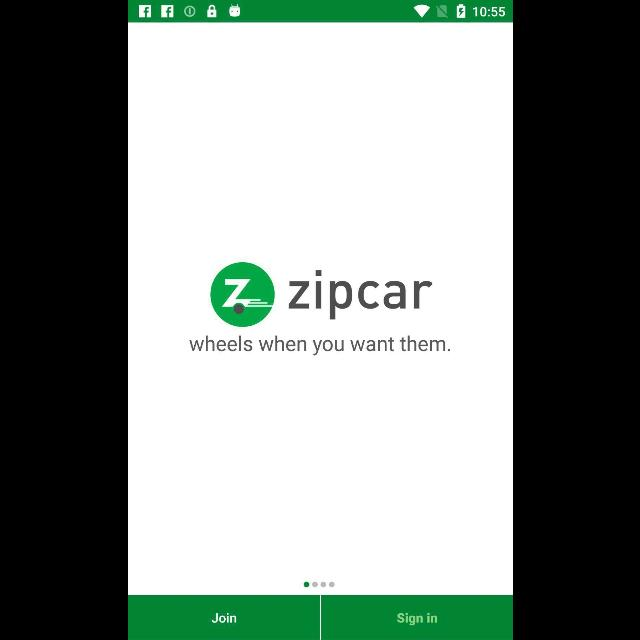image: (210, 262, 274, 328)
pageindicator: (302, 582, 334, 588)
text: (288, 270, 432, 320), (188, 336, 450, 356)
textbutton: (320, 596, 512, 640), (128, 596, 318, 640)
uppertaskbar: (128, 1, 512, 23)
